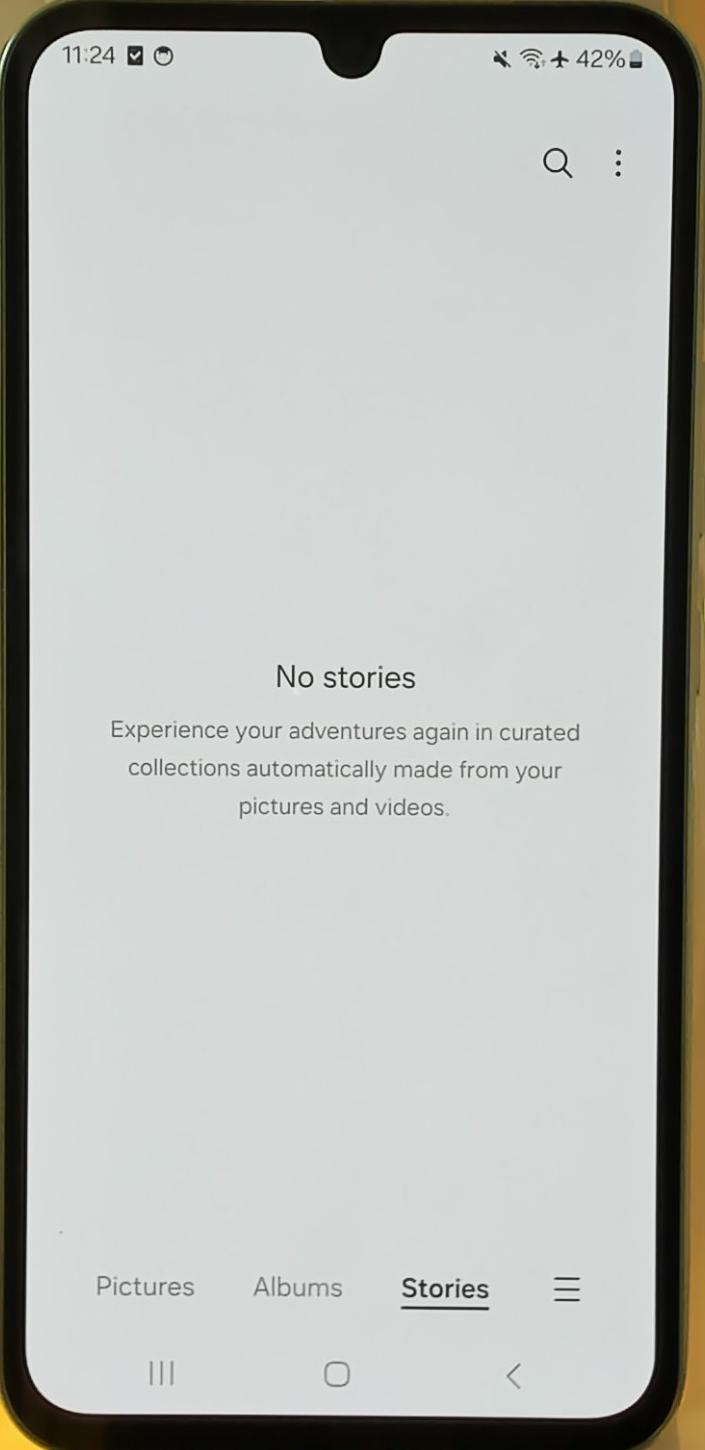CommunBotton: (240, 1252, 352, 1322), (392, 1258, 506, 1320), (86, 1256, 196, 1308), (316, 1336, 372, 1410), (134, 1342, 190, 1410), (526, 134, 586, 190), (544, 1260, 592, 1322), (488, 1346, 542, 1400)
menu: (612, 138, 638, 206)
